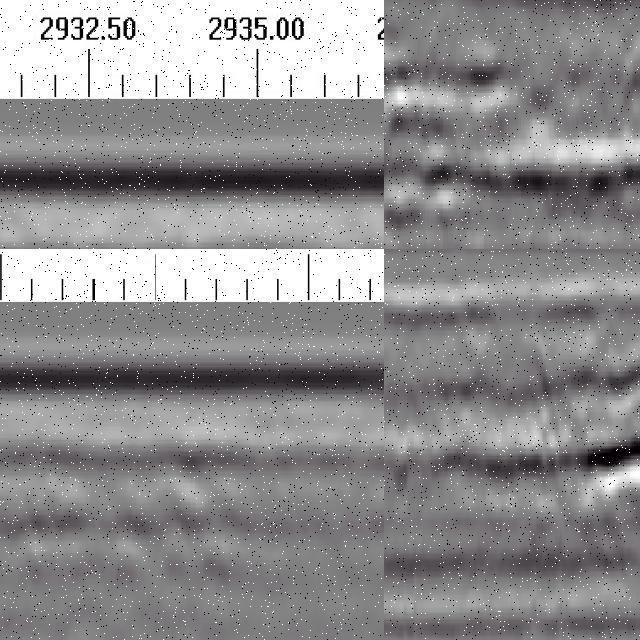loose: (428, 371, 640, 522), (1, 472, 244, 577), (385, 35, 504, 189)
